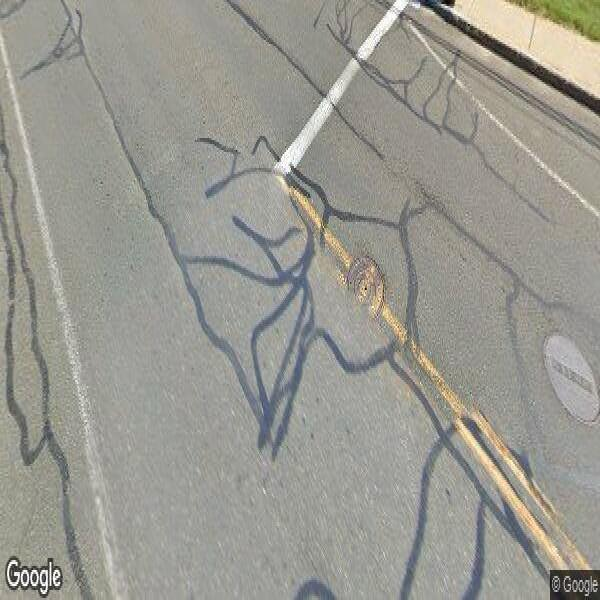manhole: (538, 320, 600, 437), (338, 246, 387, 324)
